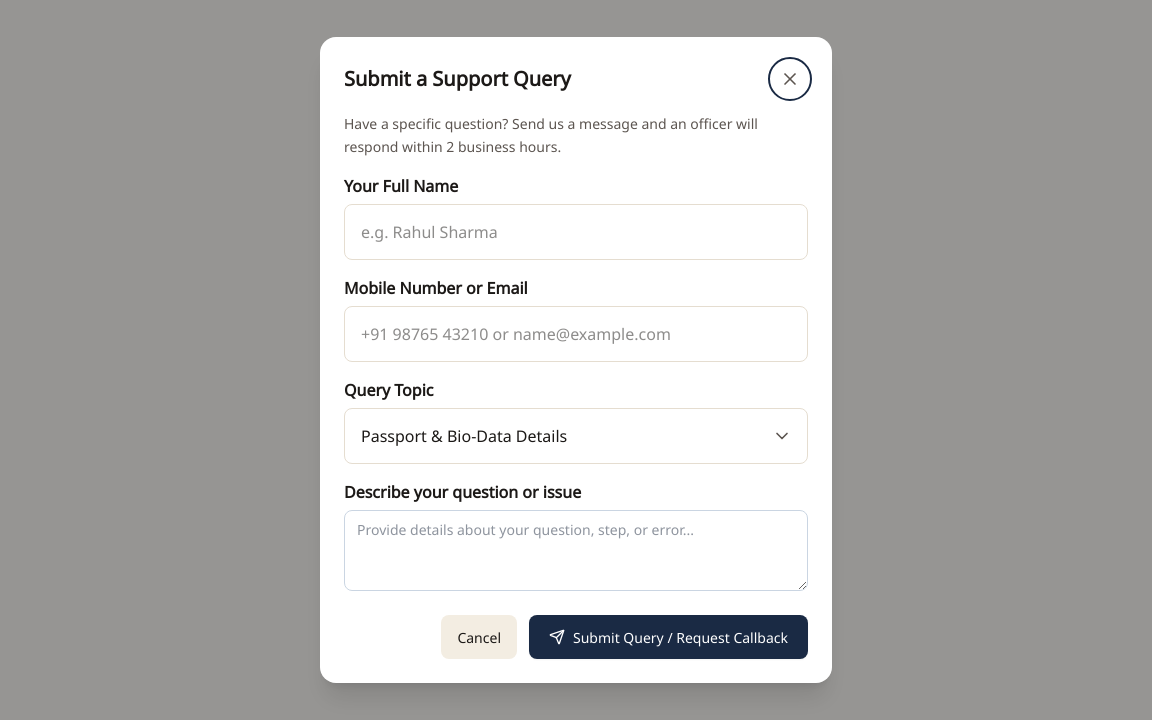
it: SupportTicketModal › renders modal when open is true, validates fields and generates ticket ID
Expected: the dialog is shown, [320, 37, 832, 683]
Expected: the field labelled "Mobile Number or Email" is shown, [344, 306, 808, 362]
Note: Fill form
Type "Priya Patel" into the field labelled "Your Full Name" at x=576, y=232, box [344, 204, 808, 260]
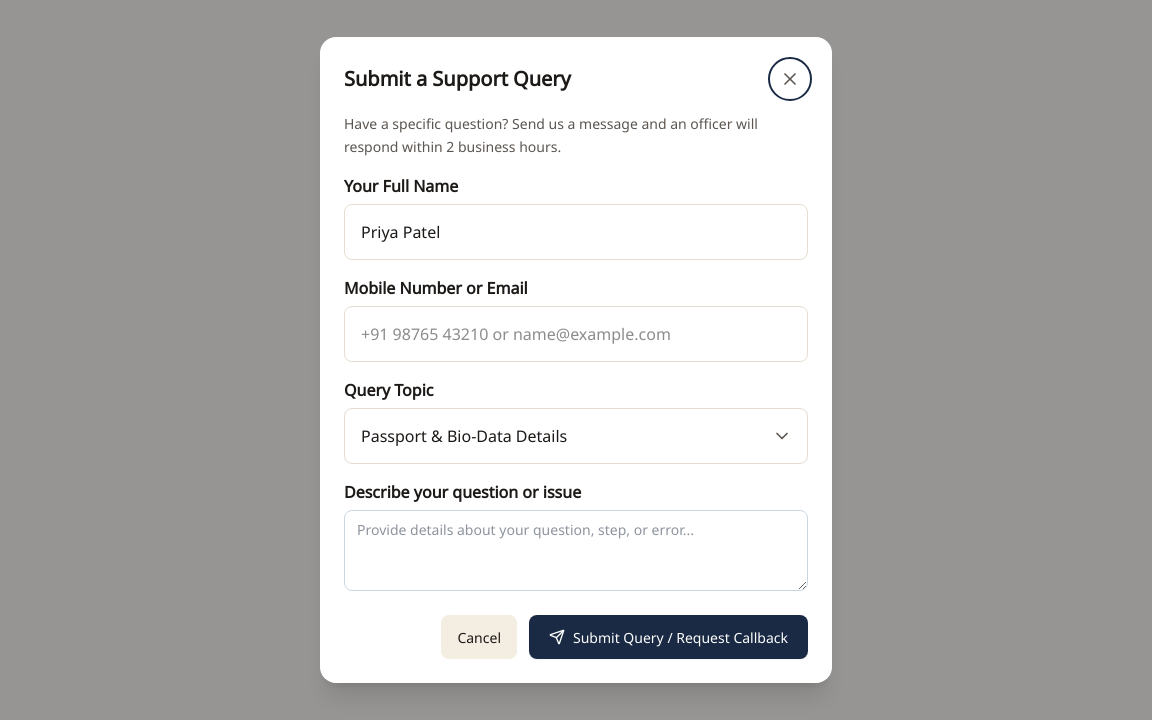
Type "priya@example.com" into the field labelled "Mobile Number or Email" at x=576, y=334, box [344, 306, 808, 362]
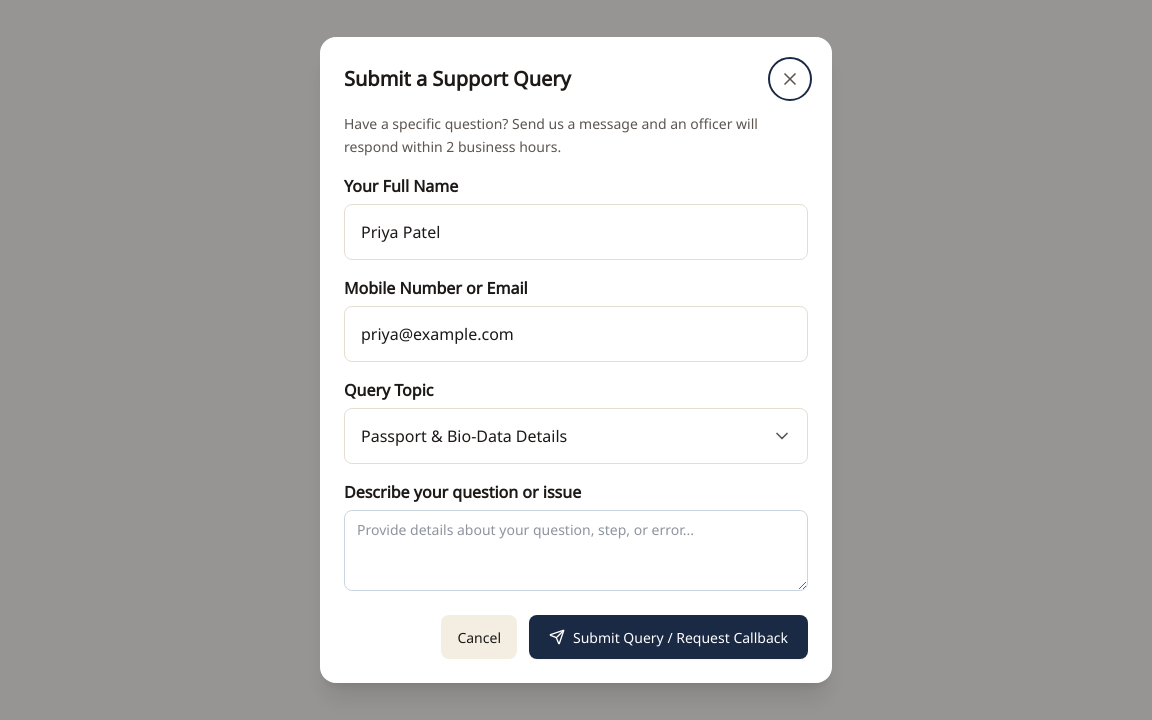
Type "How do I upload scanned passport PDF?" into the text box labelled "Describe your question or issue" at x=576, y=551, box [344, 510, 808, 591]
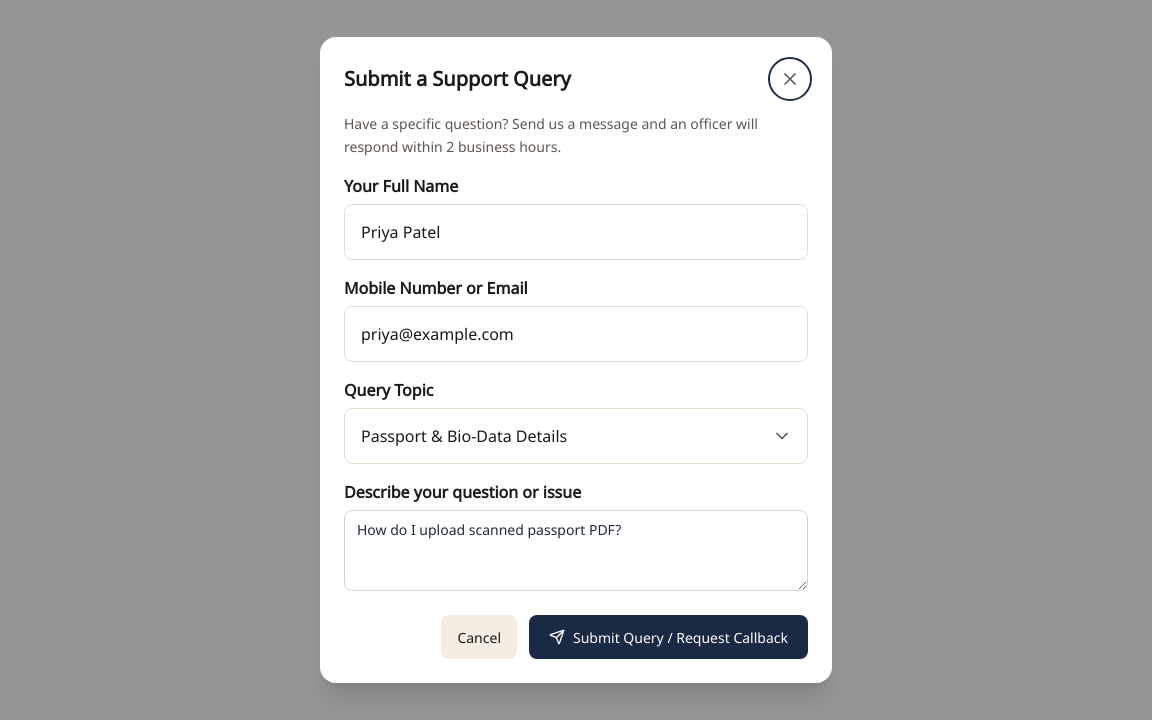
Click the button "Submit Query / Request Callback" at x=668, y=637, box [529, 615, 808, 659]
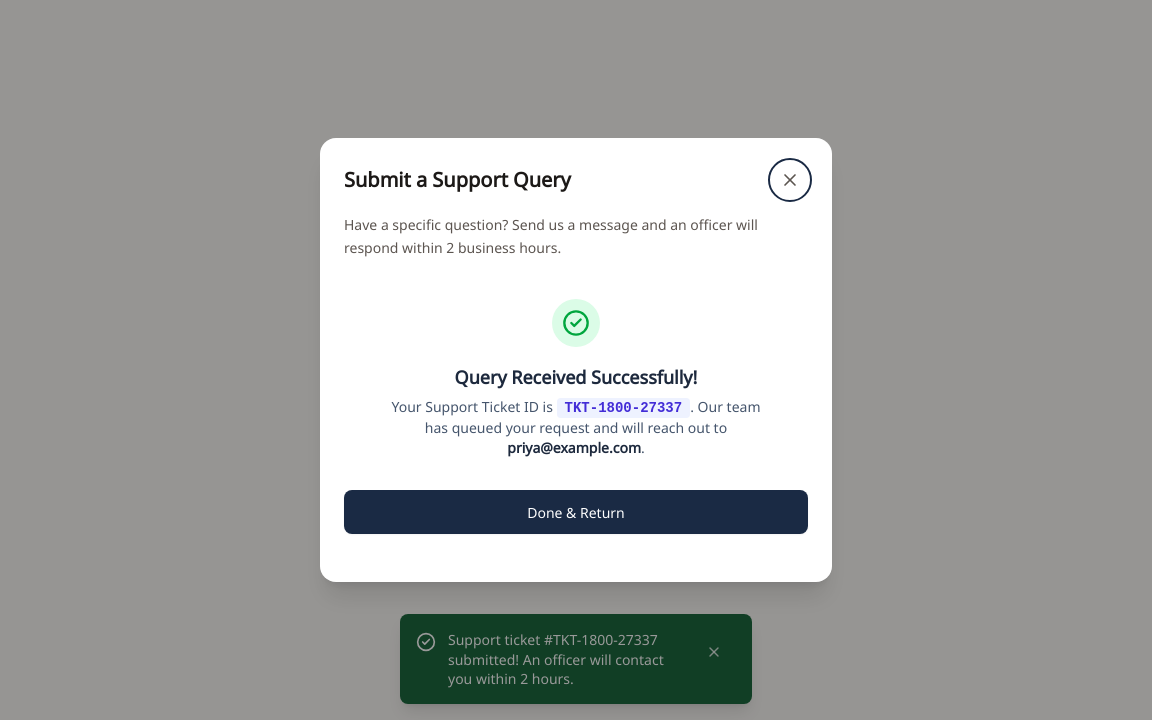
Expected: the element with test id "ticket-success-view" is shown, [344, 275, 808, 558]
Expected: the heading "Query Received Successfully!" is shown, [455, 365, 697, 389]
